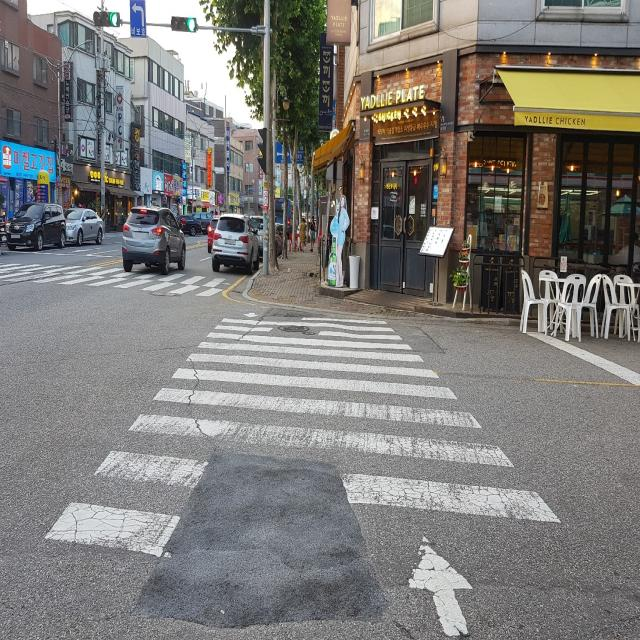횡단보도: (43, 313, 560, 636), (0, 256, 232, 299)
